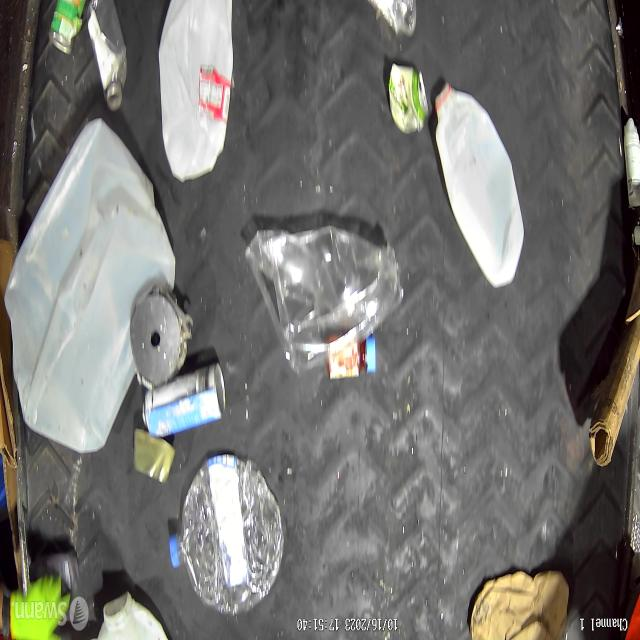can: (142, 362, 225, 438), (388, 61, 429, 135), (48, 0, 86, 55)
milk_jug: (5, 117, 176, 454), (434, 82, 524, 289), (158, 0, 235, 185)
plastic_bottle: (242, 222, 406, 380), (171, 454, 286, 618), (85, 0, 127, 109)
